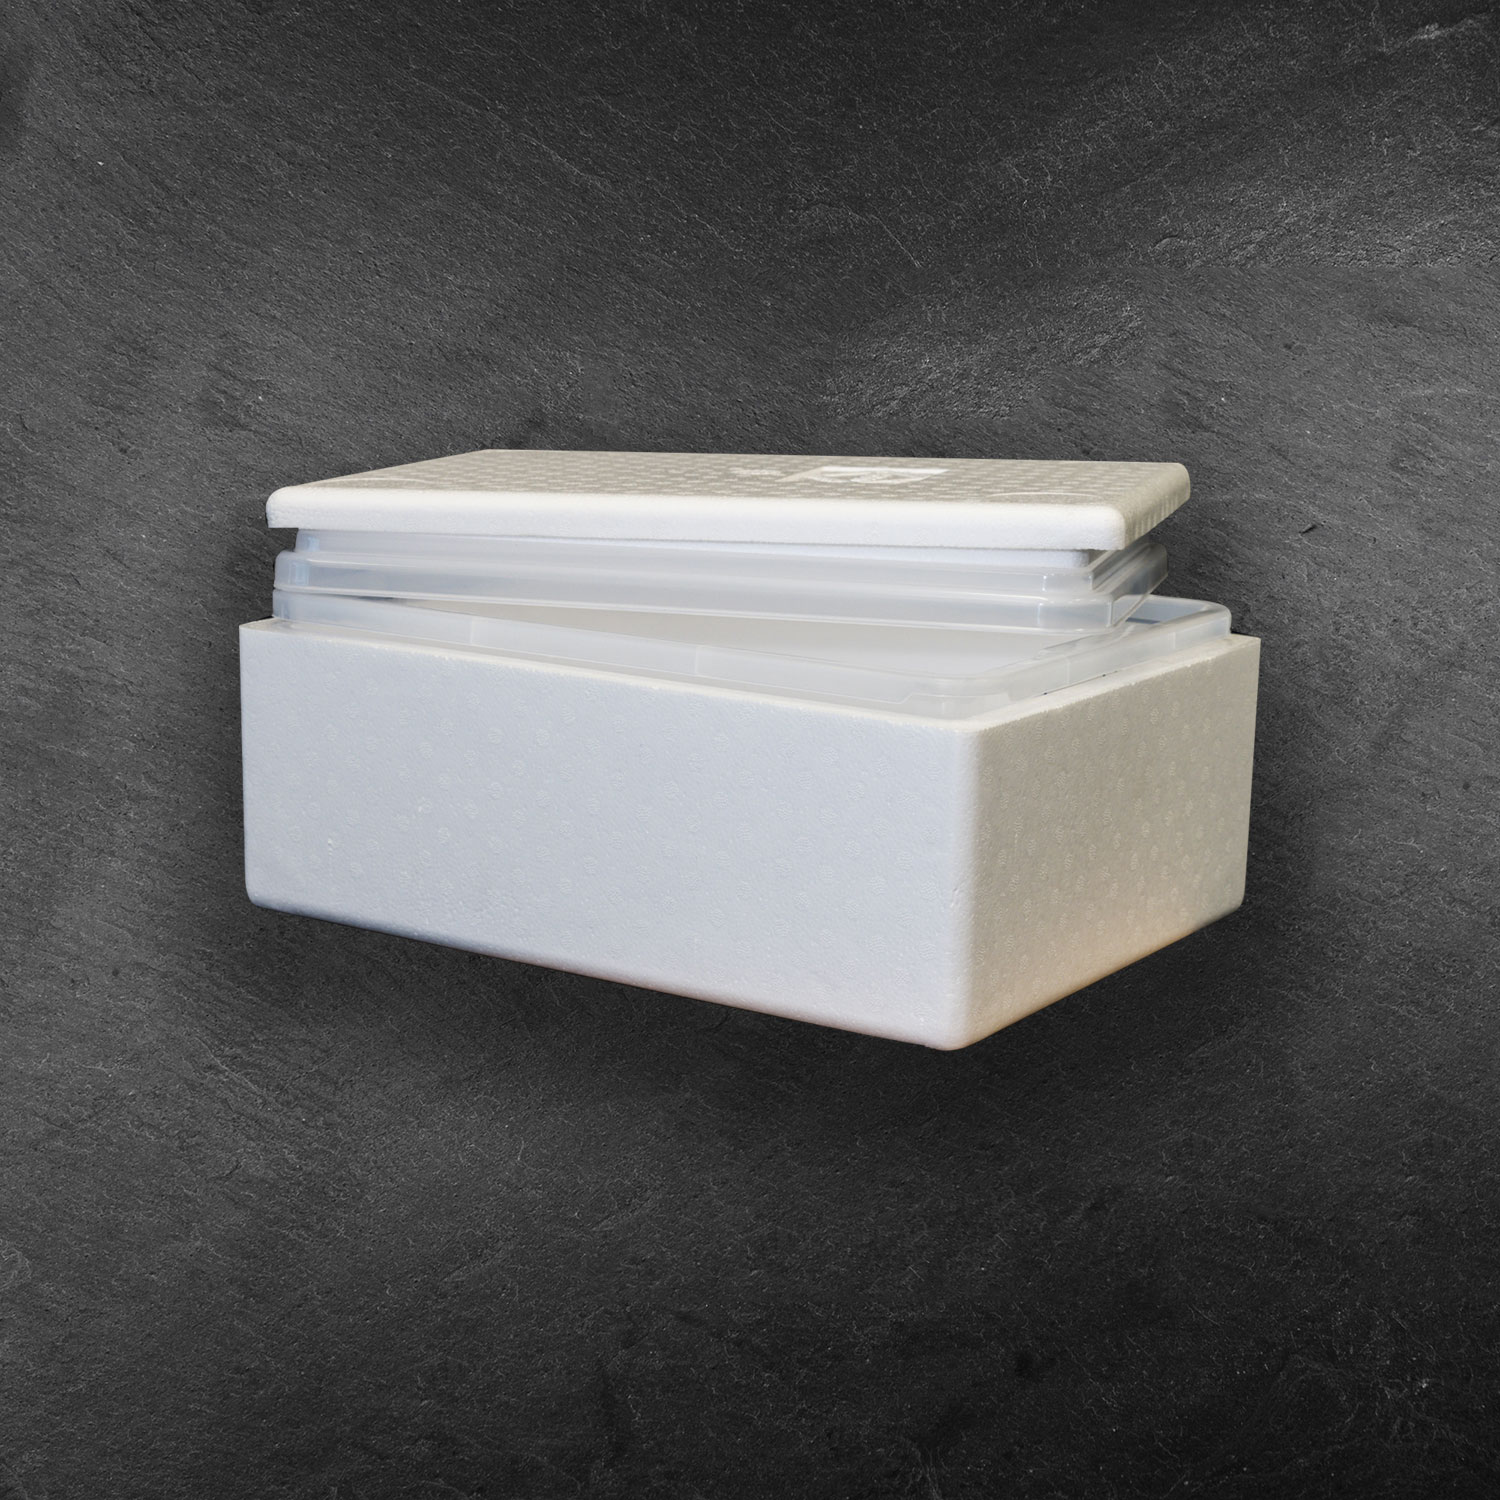Foam Box: (216, 430, 1279, 1063)
